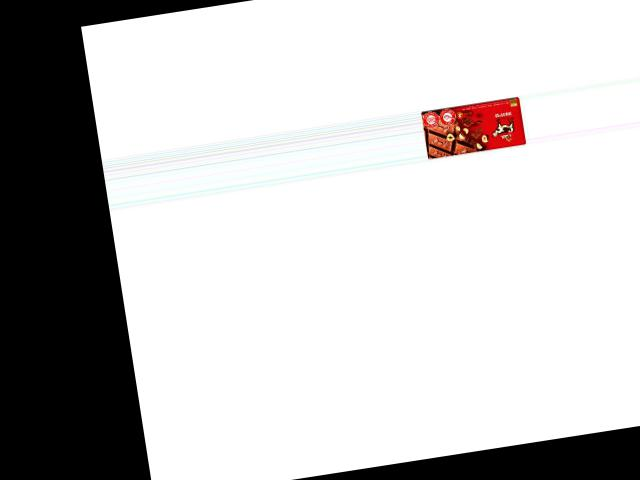chocolate: (420, 95, 526, 159)
